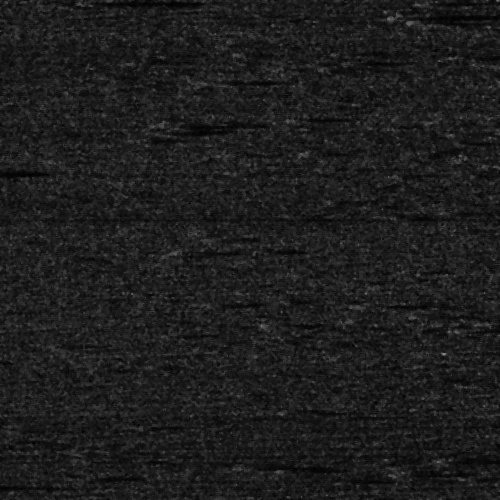object: (392, 6, 433, 21), (71, 0, 102, 3), (450, 455, 471, 458)
shadow: (413, 6, 500, 21), (87, 0, 191, 3), (0, 167, 36, 174), (460, 455, 500, 458)
